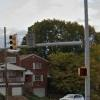Tree: (20, 10, 92, 92)
